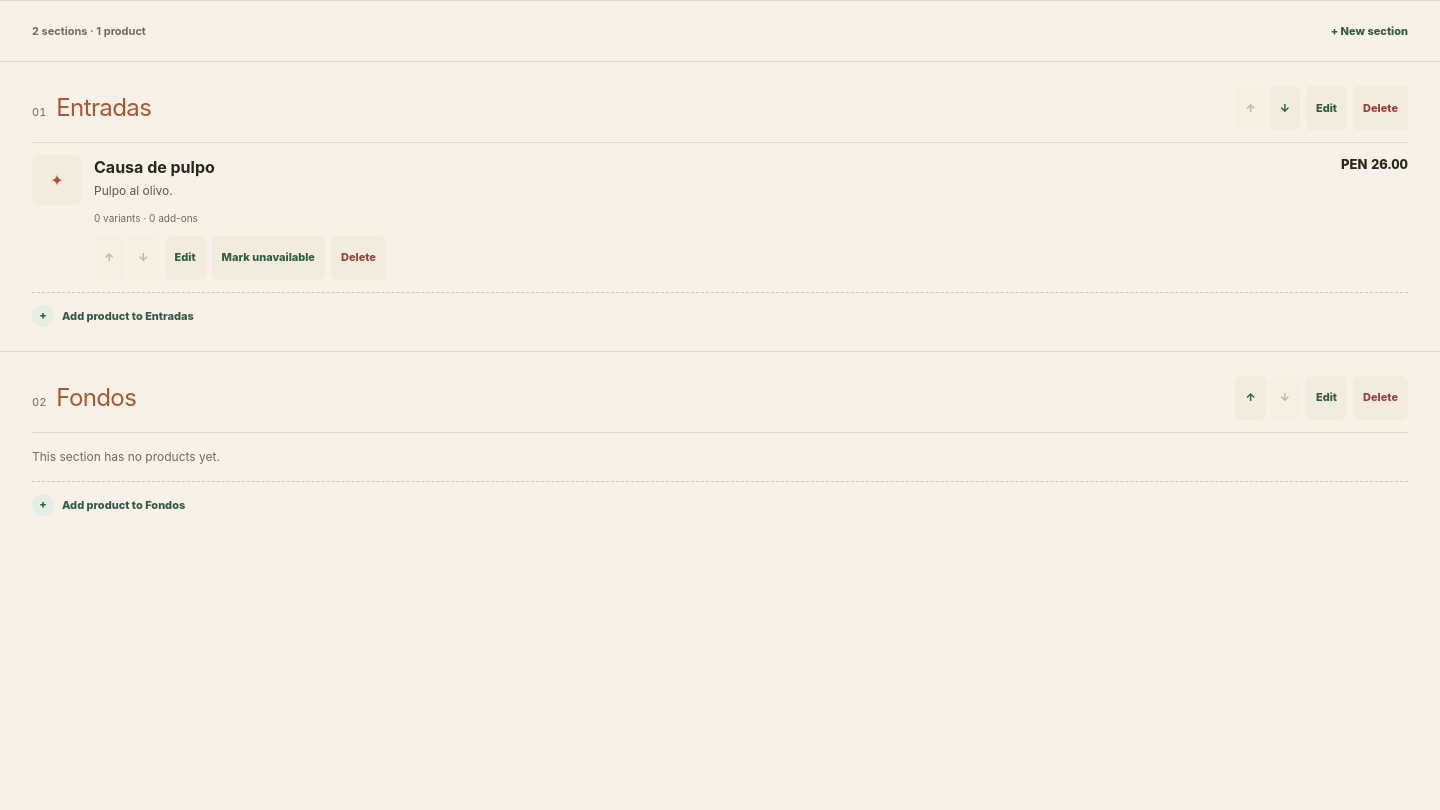
Test case: MenuManager · idioma › en inglés traduce la interfaz sin tocar los nombres del dueño
This screenshot has width=1440, height=810.
Check: the text "2 sections · 1 product" is shown, box [32, 23, 146, 39]
Check: the text "0 variants · 0 add-ons" is shown, box [94, 212, 198, 224]
Click the button with aria-label "Edit section Fondos".
click(1326, 398)  # box [1306, 376, 1347, 420]
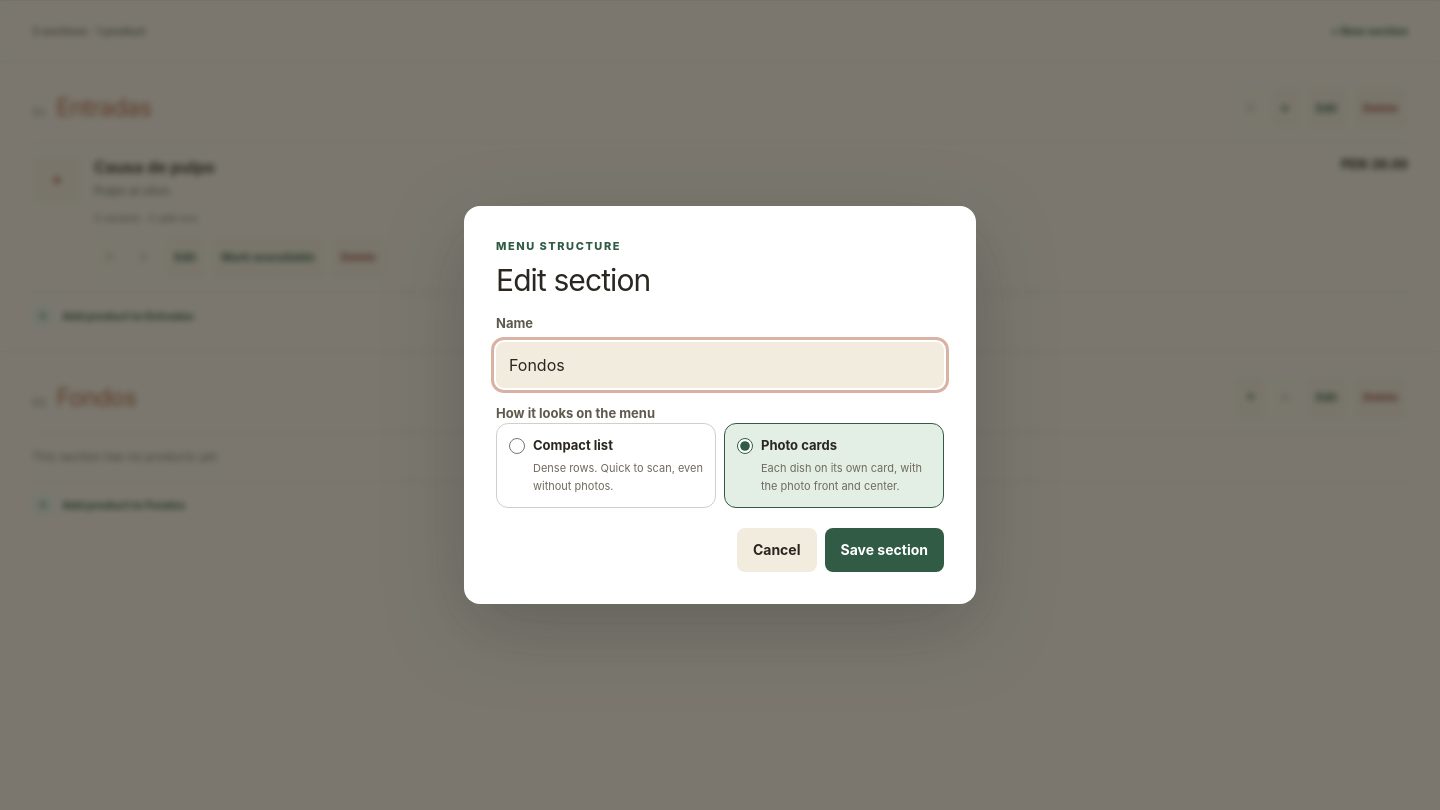
Check: the heading "Edit section" is shown, box [496, 262, 650, 298]
Check: the radio button labelled "Photo cards" is checked, box [737, 438, 753, 454]
Check: the button "Save section" is shown, box [824, 528, 944, 572]
